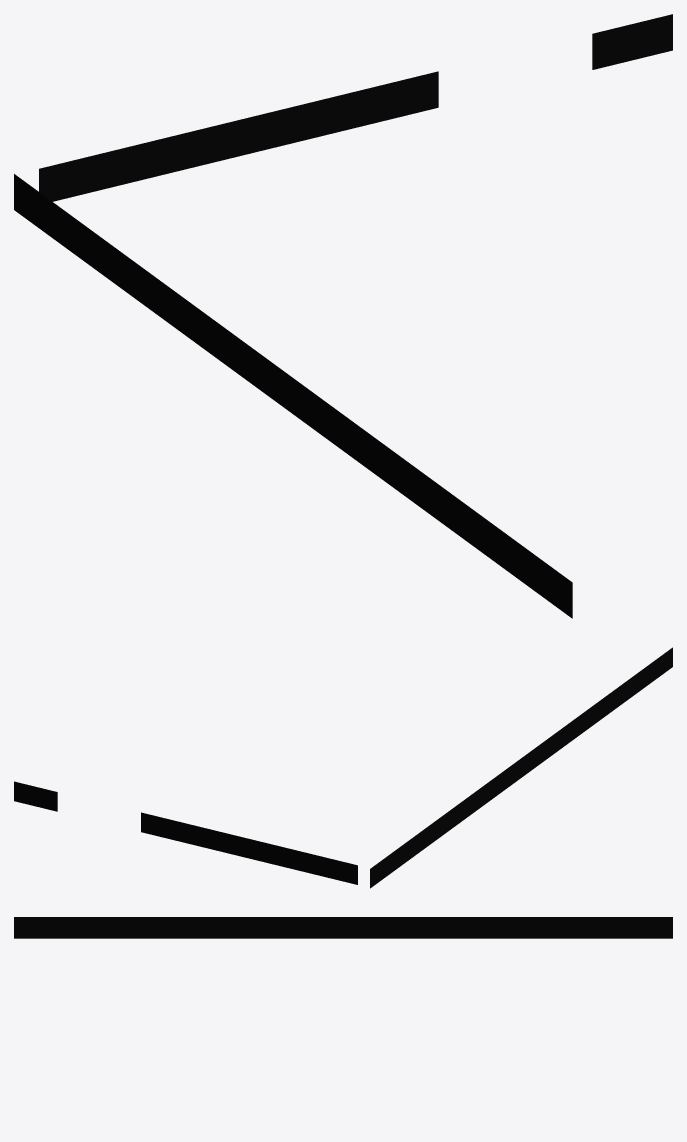
File: LAKETOWN_PUB_PS_PUB_DIRT_LAYER02.fbx
The picture shows the model from 3 angles, top to bottom: view 1: azimuth 30°, elevation 25°; view 2: azimuth 150°, elevation 25°; view 3: azimuth 270°, elevation 25°; orthographic projection. The views are drawn at different scales.
Visible parts, largest first — view 1: LAKETOWN_PUB_PS_PUB_DIRT_LAYER02; view 2: LAKETOWN_PUB_PS_PUB_DIRT_LAYER02; view 3: LAKETOWN_PUB_PS_PUB_DIRT_LAYER02.
Boxes of the visible parts, <box> form: LAKETOWN_PUB_PS_PUB_DIRT_LAYER02: <box>14,14,672,618</box>; LAKETOWN_PUB_PS_PUB_DIRT_LAYER02: <box>14,647,672,888</box>; LAKETOWN_PUB_PS_PUB_DIRT_LAYER02: <box>14,917,672,938</box>.
Size of the model in its own units: 58211 by 3078 by 85630.
Materials: 1 (1 with a texture image).
